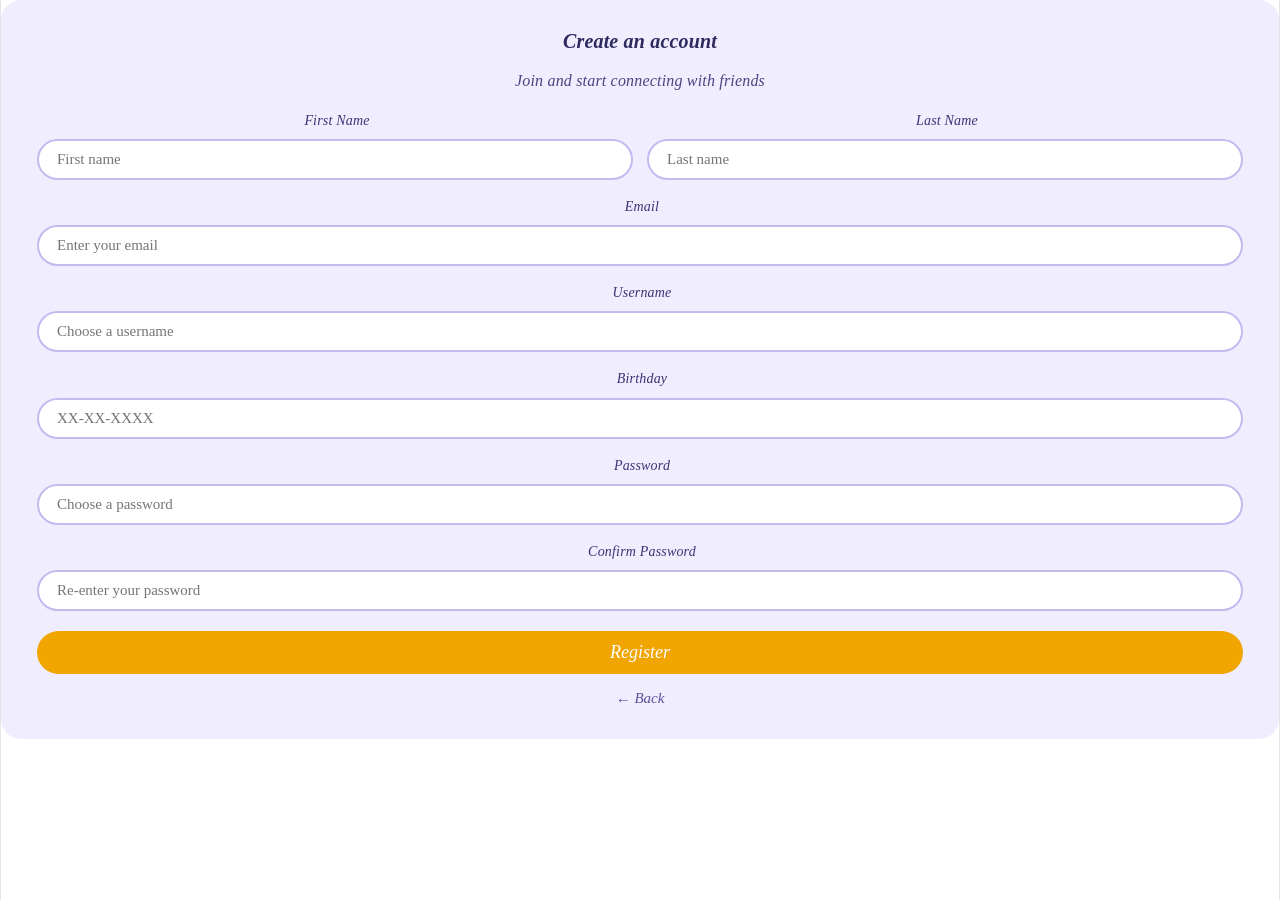
Test: Register Page Unit Tests › transitions to verification state on successful registration
The image size is (1280, 900).
Type "Travis" into the field with placeholder "First name" at (335, 160), box [37,139,633,180]
Type "Burns" into the field with placeholder "Last name" at (945, 160), box [647,139,1243,180]
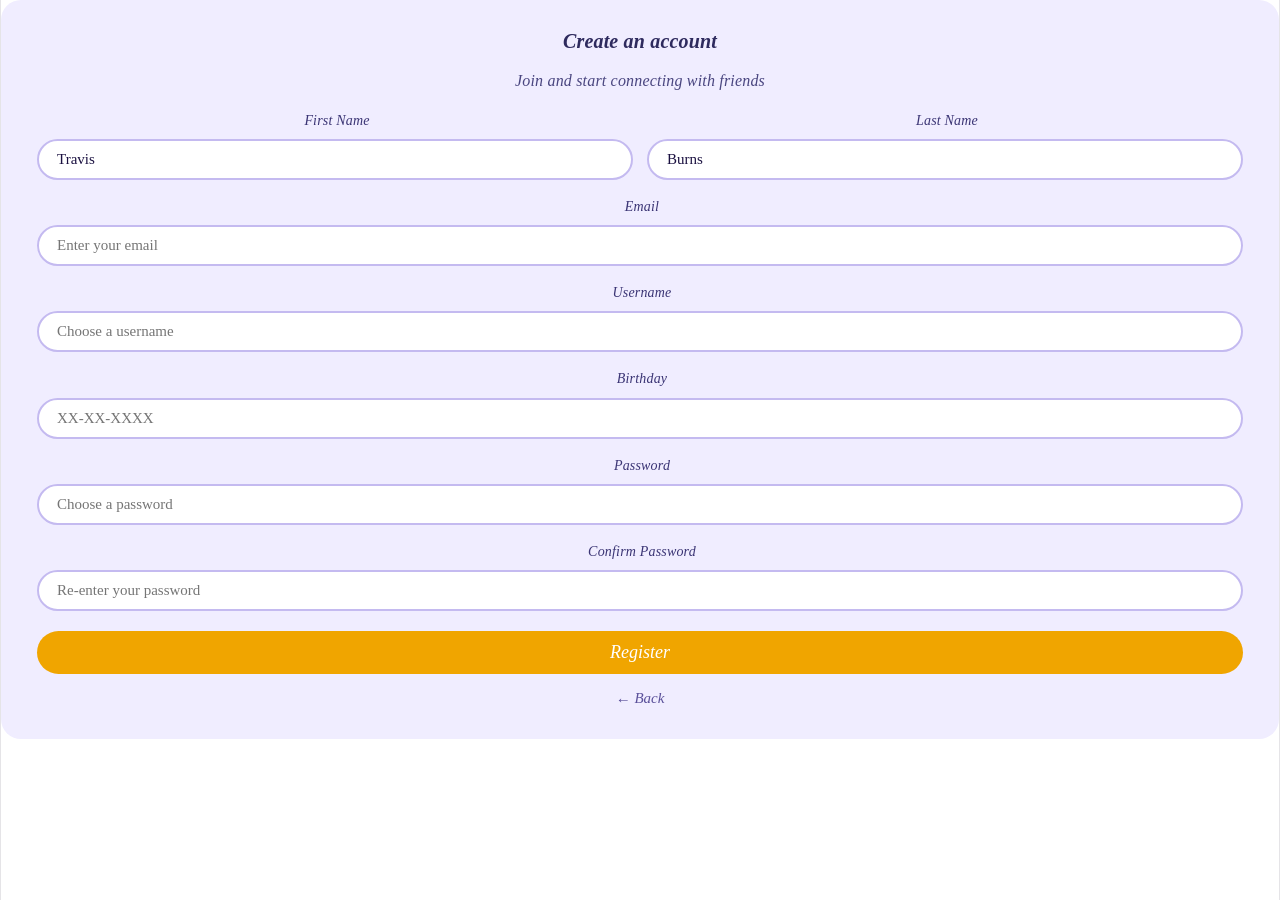
Type "test@ucf.edu" into the field with placeholder "Enter your email" at (640, 246), box [37,225,1243,266]
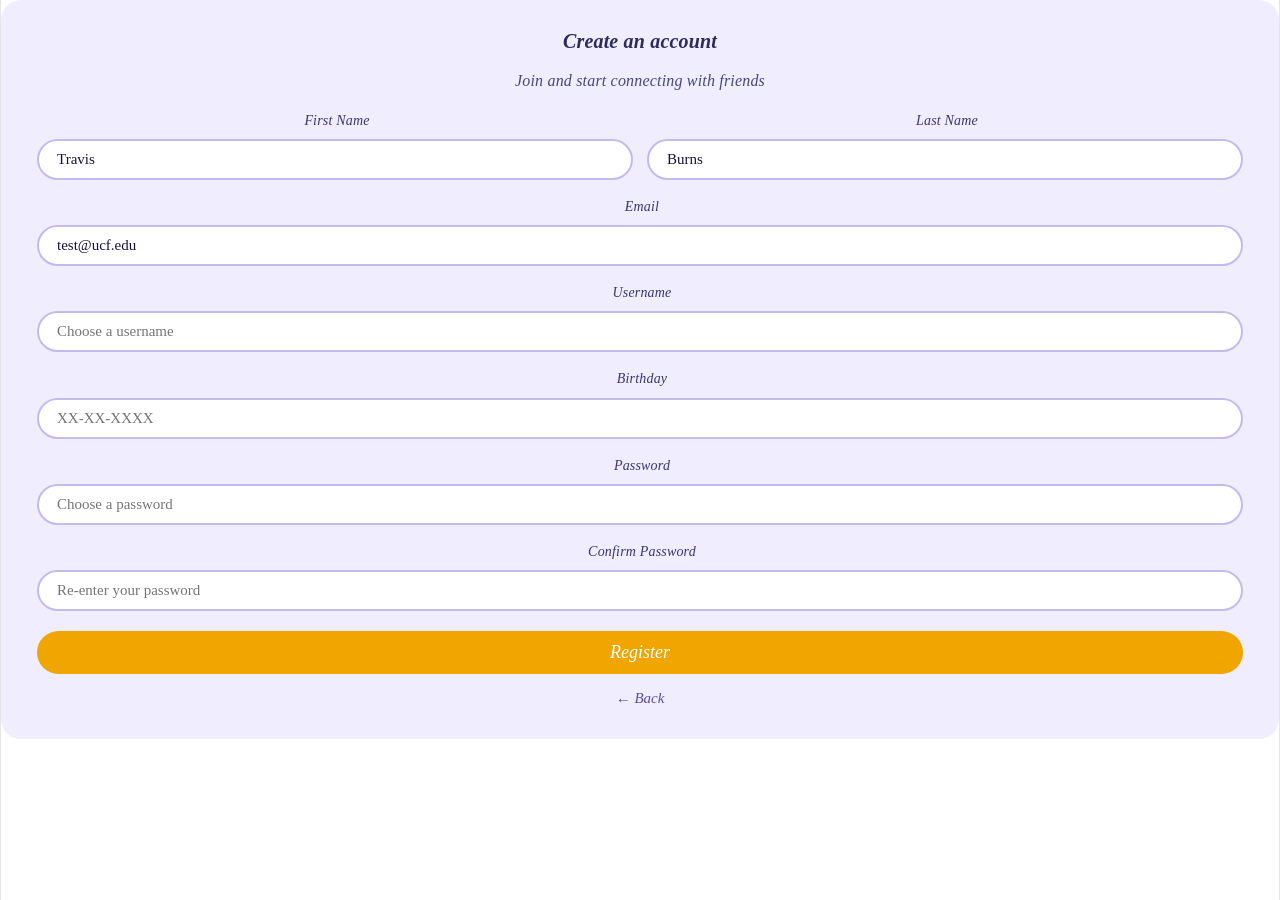
Type "travis_b" into the field with placeholder "Choose a username" at (640, 332), box [37,312,1243,352]
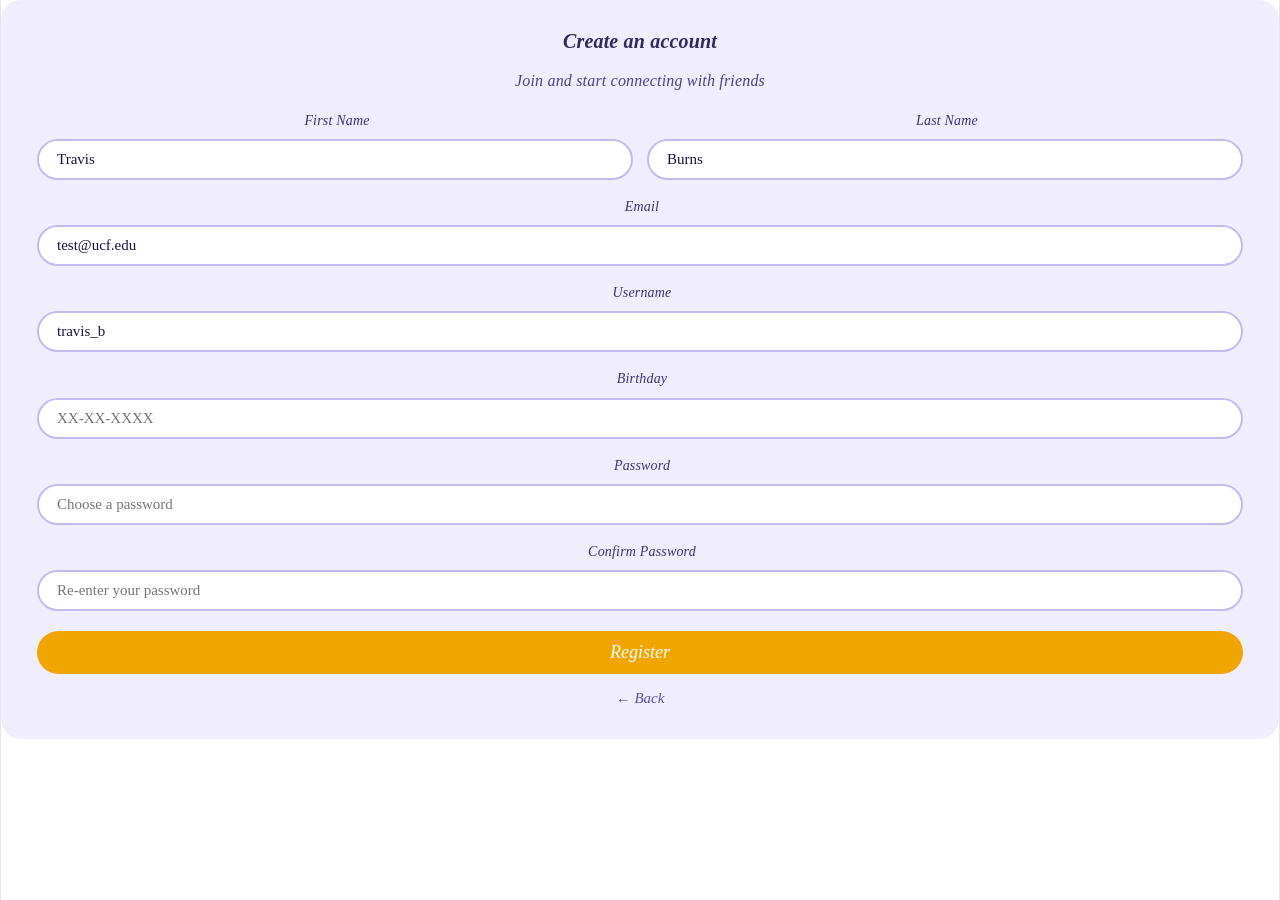
Type "StrongPass123" into the password field with placeholder "Choose a password" at (640, 504), box [37,484,1243,525]
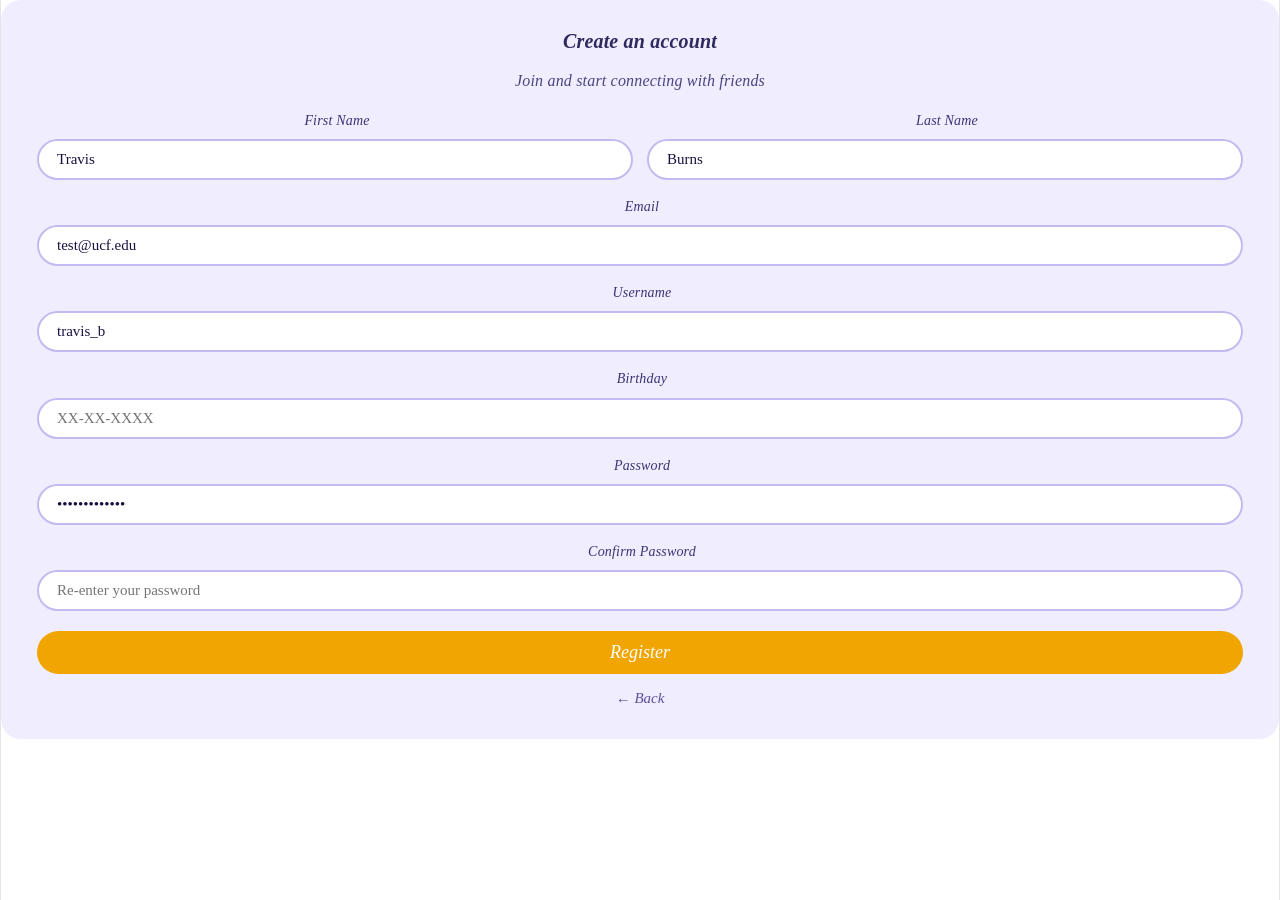
Type "StrongPass123" into the password field with placeholder "Re-enter your password" at (640, 590), box [37,570,1243,611]
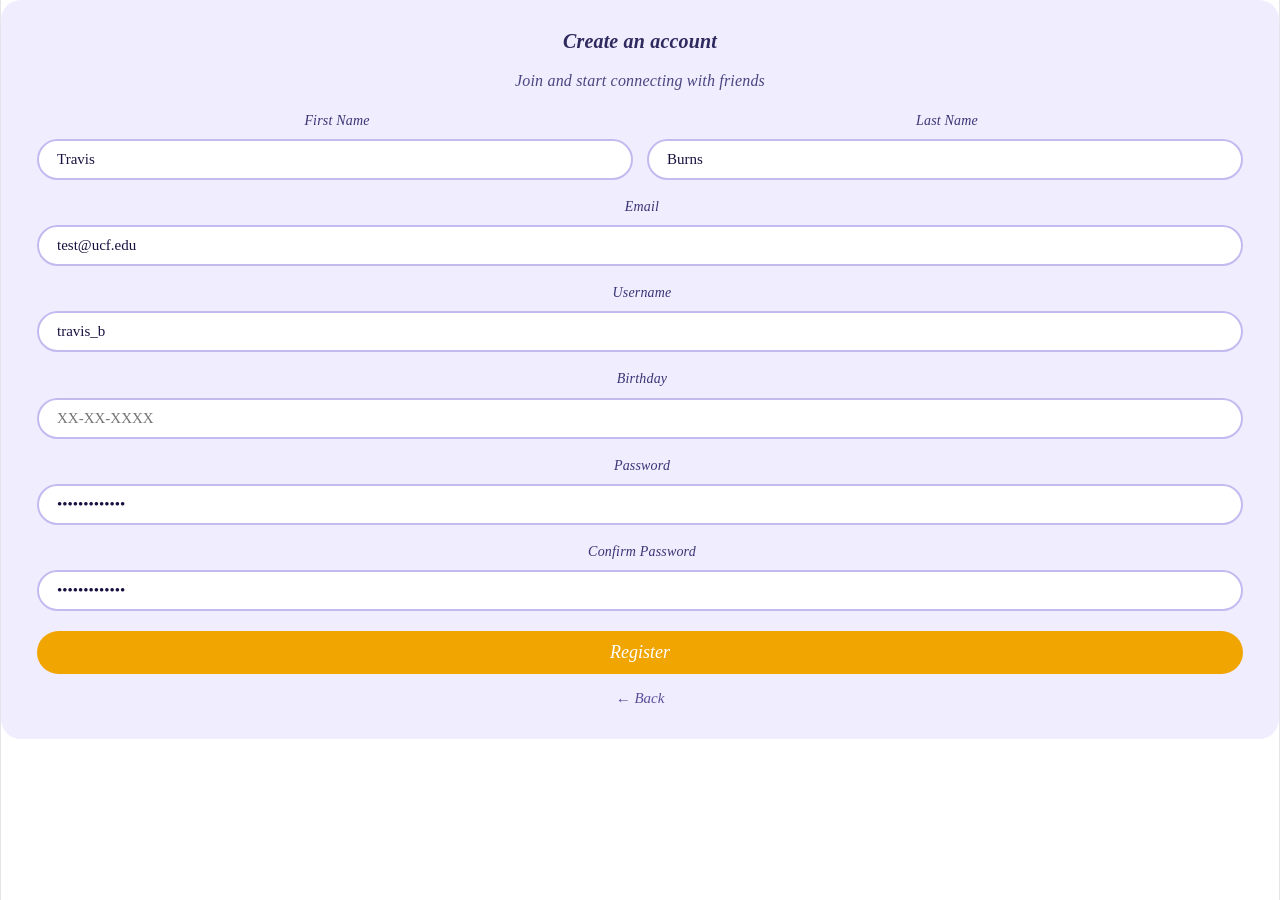
Click the button "Register" at (640, 652), box [37,631,1243,674]
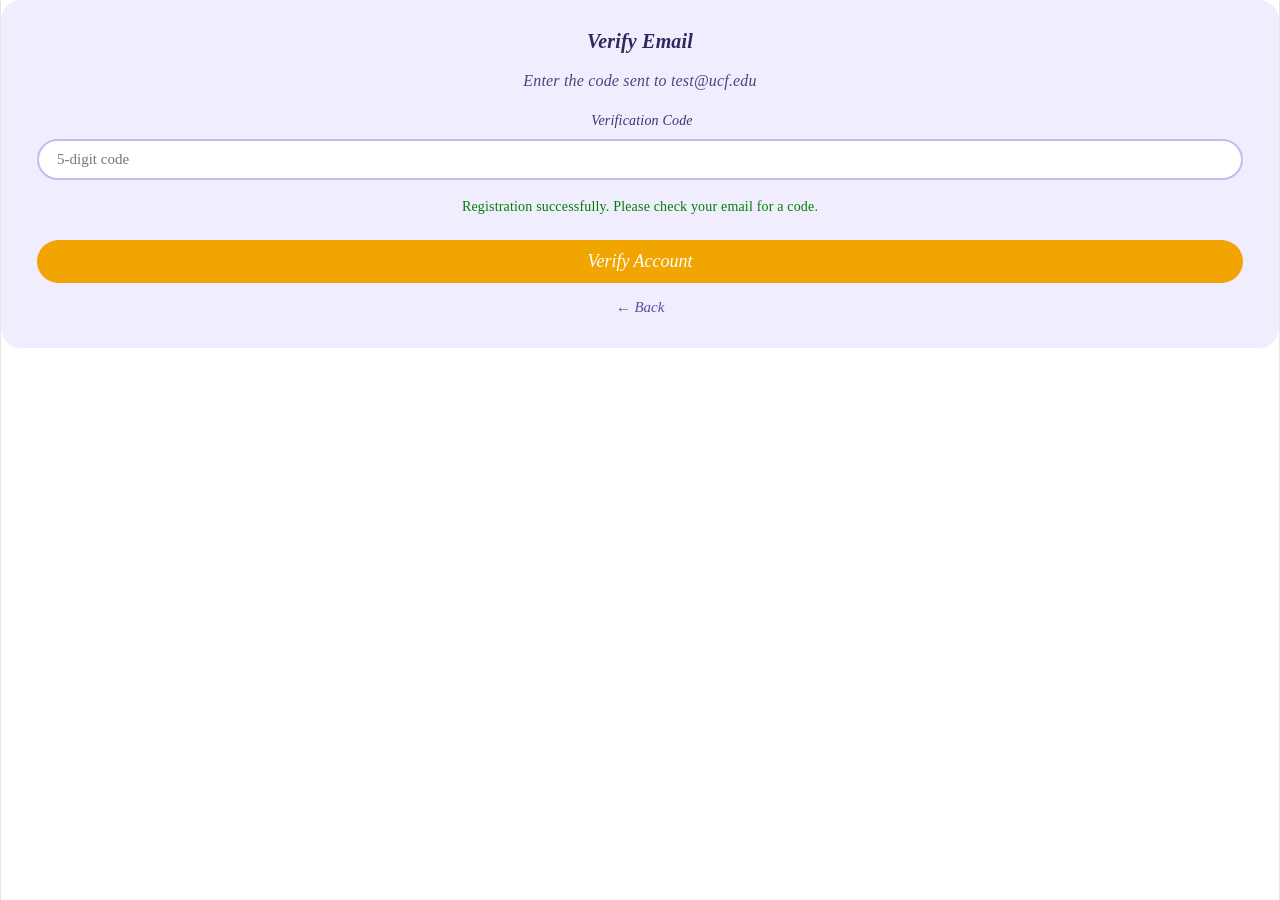
Now the text "Verify Email" is shown, box [587,28,693,54]
Now the field with placeholder "5-digit code" is shown, box [37,139,1243,180]
